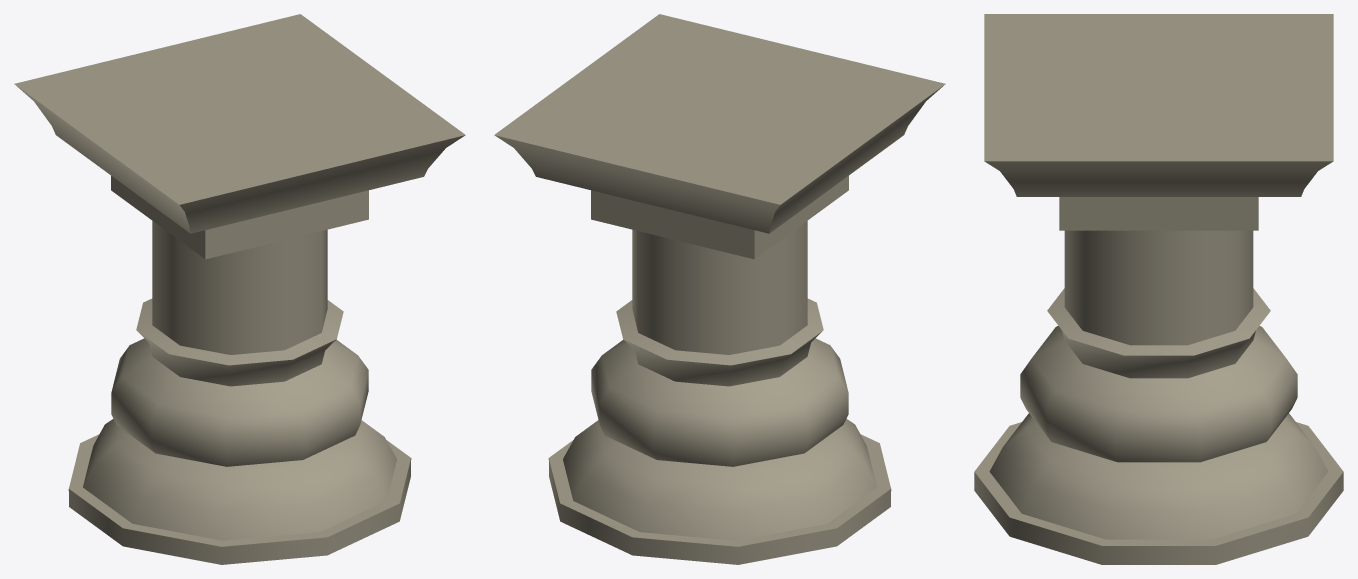
Rendered from Column_Round1.gltf.
3 views of the same model, side by side, from view 1: azimuth 30°, elevation 25°; view 2: azimuth 150°, elevation 25°; view 3: azimuth 270°, elevation 25° (orthographic). The views are drawn at different scales.
Parts seen in each view (by area): view 1: Column_Round1; view 2: Column_Round1; view 3: Column_Round1.
Part boxes in pixels (x1,y1,x2,y2): Column_Round1: (14,14,465,564); Column_Round1: (494,14,945,564); Column_Round1: (974,14,1343,564).
Bounding box in the file's own units: 1.4 × 1.77 × 1.47.
